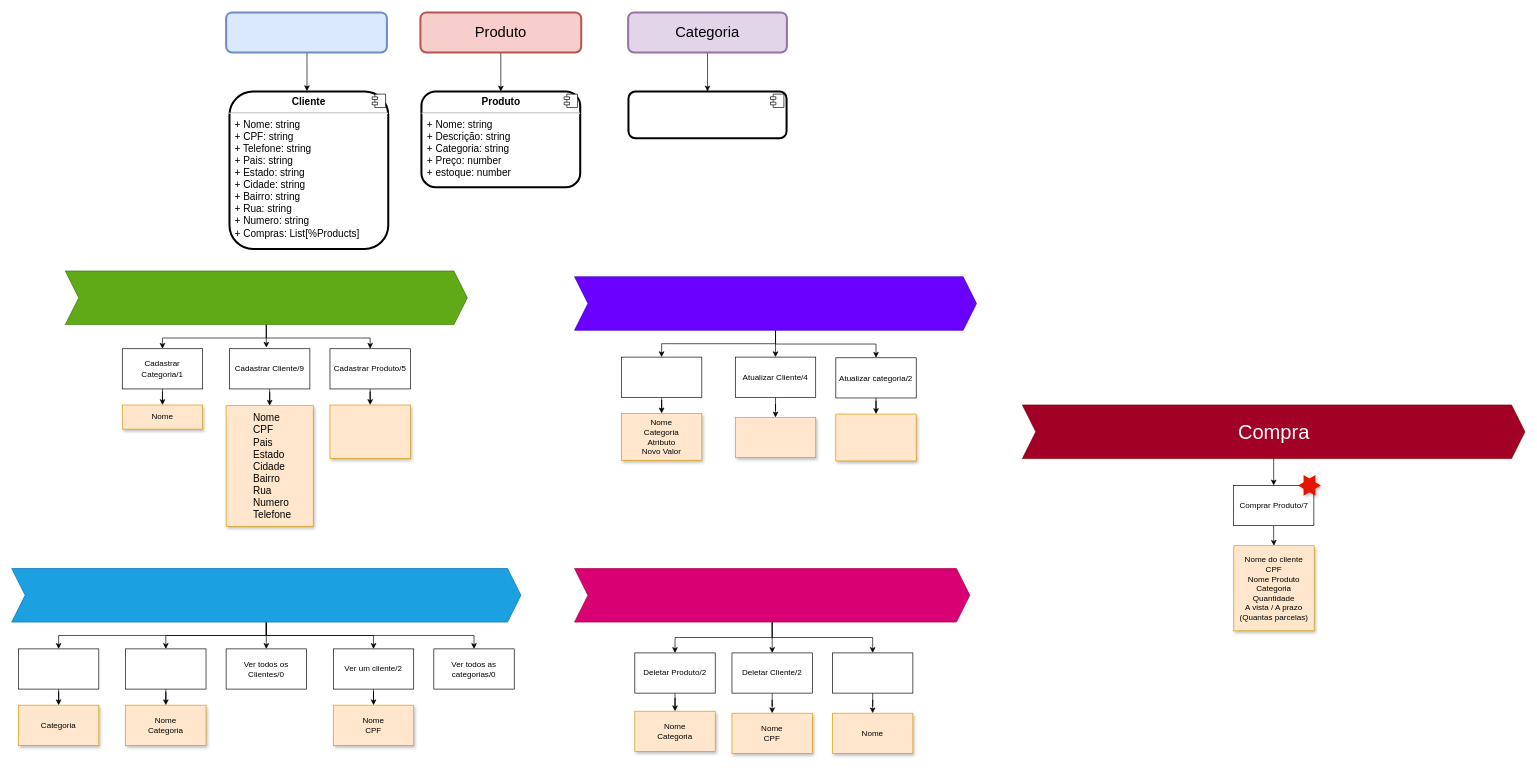
Some shapes in this 1537 by 770 pixel diagram are drawn without their labels. The shapes that lost their labels are listed below. From the top down, each one's centre as x and y in pixels, then its label:
the point at 306,32: Cliente
the point at 707,114: Categorias + Nome: string
the point at 266,297: Cadastrar
the point at 775,303: Atualizar
the point at 661,376: Atualizar produtos/4
the point at 370,432: Nome Descrição Categoria Preço Estoque
the point at 776,438: Nome CPF Atributo Novo valor
the point at 876,438: Nome antigo Novo nome
the point at 266,595: Imprimir
the point at 772,595: Deletar
the point at 58,668: Ver todos produtos da categoria/1
the point at 165,668: Ver um produto/2
the point at 872,672: Deletar Categoria/1
